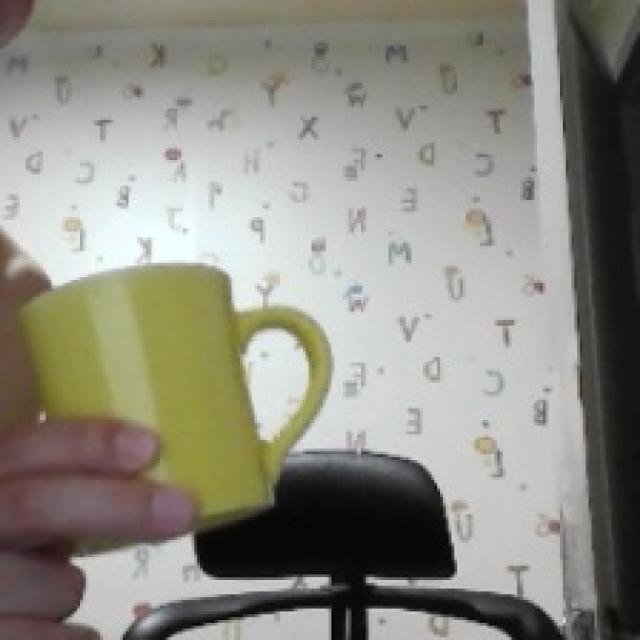cup: (23, 263, 329, 526)
